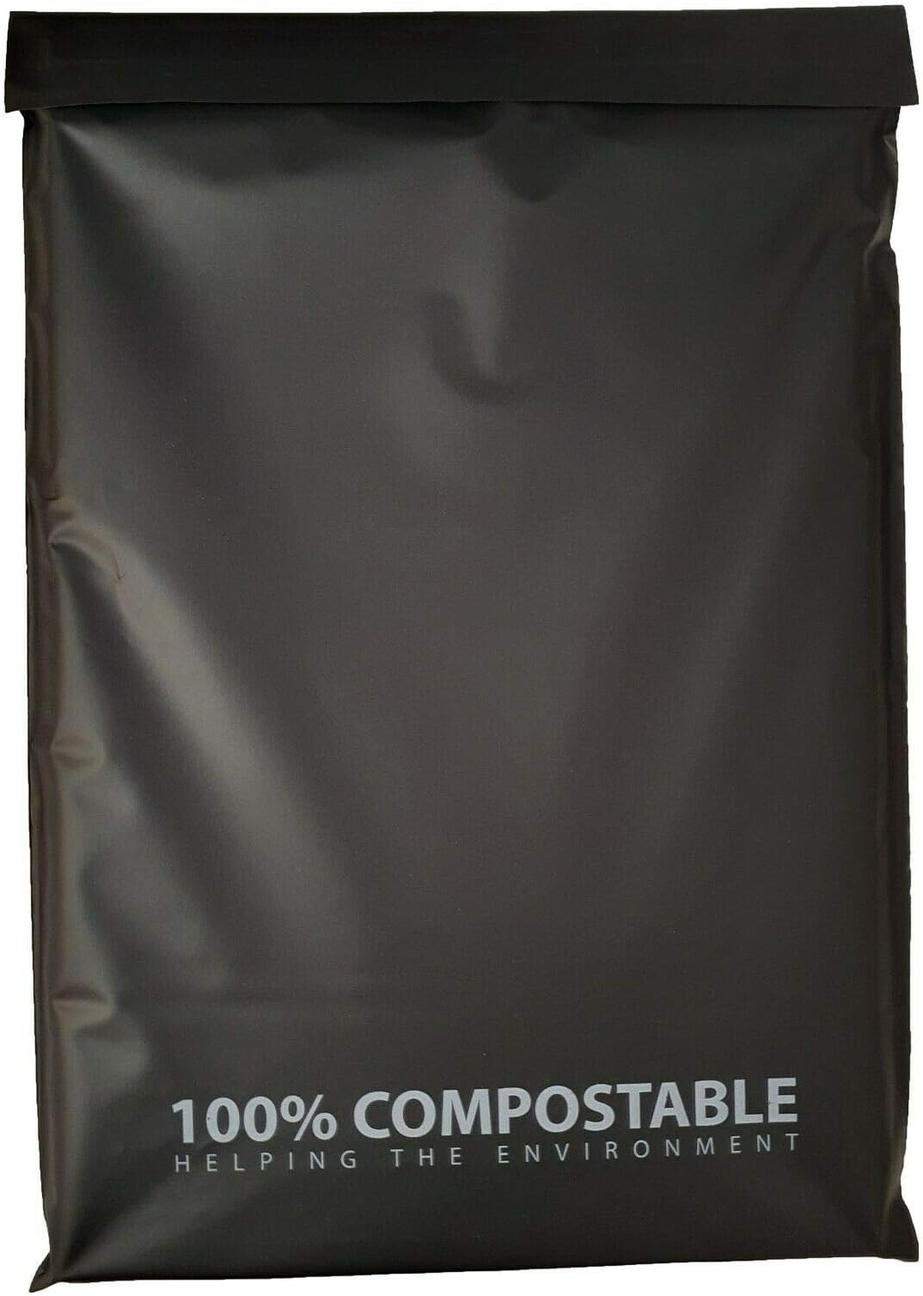塑料袋: (5, 6, 917, 1290)
